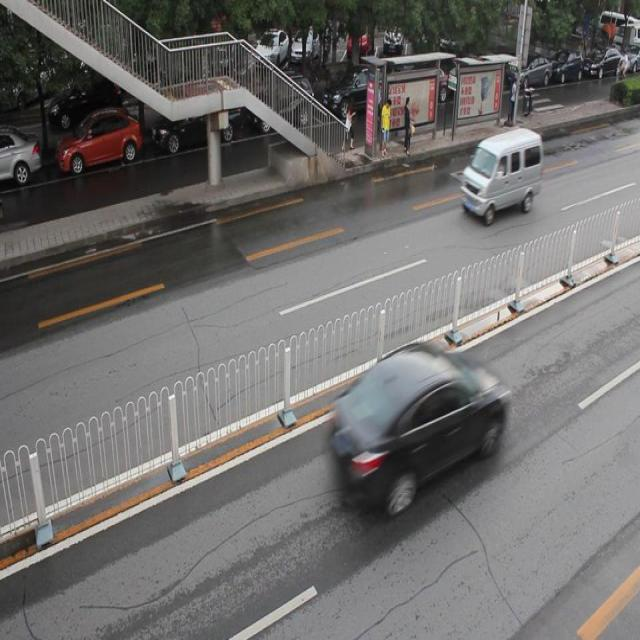car: (330, 344, 508, 516), (56, 108, 142, 174), (153, 99, 241, 150), (247, 76, 316, 131), (322, 66, 391, 118), (0, 127, 42, 185)
truck: (459, 126, 544, 222)
